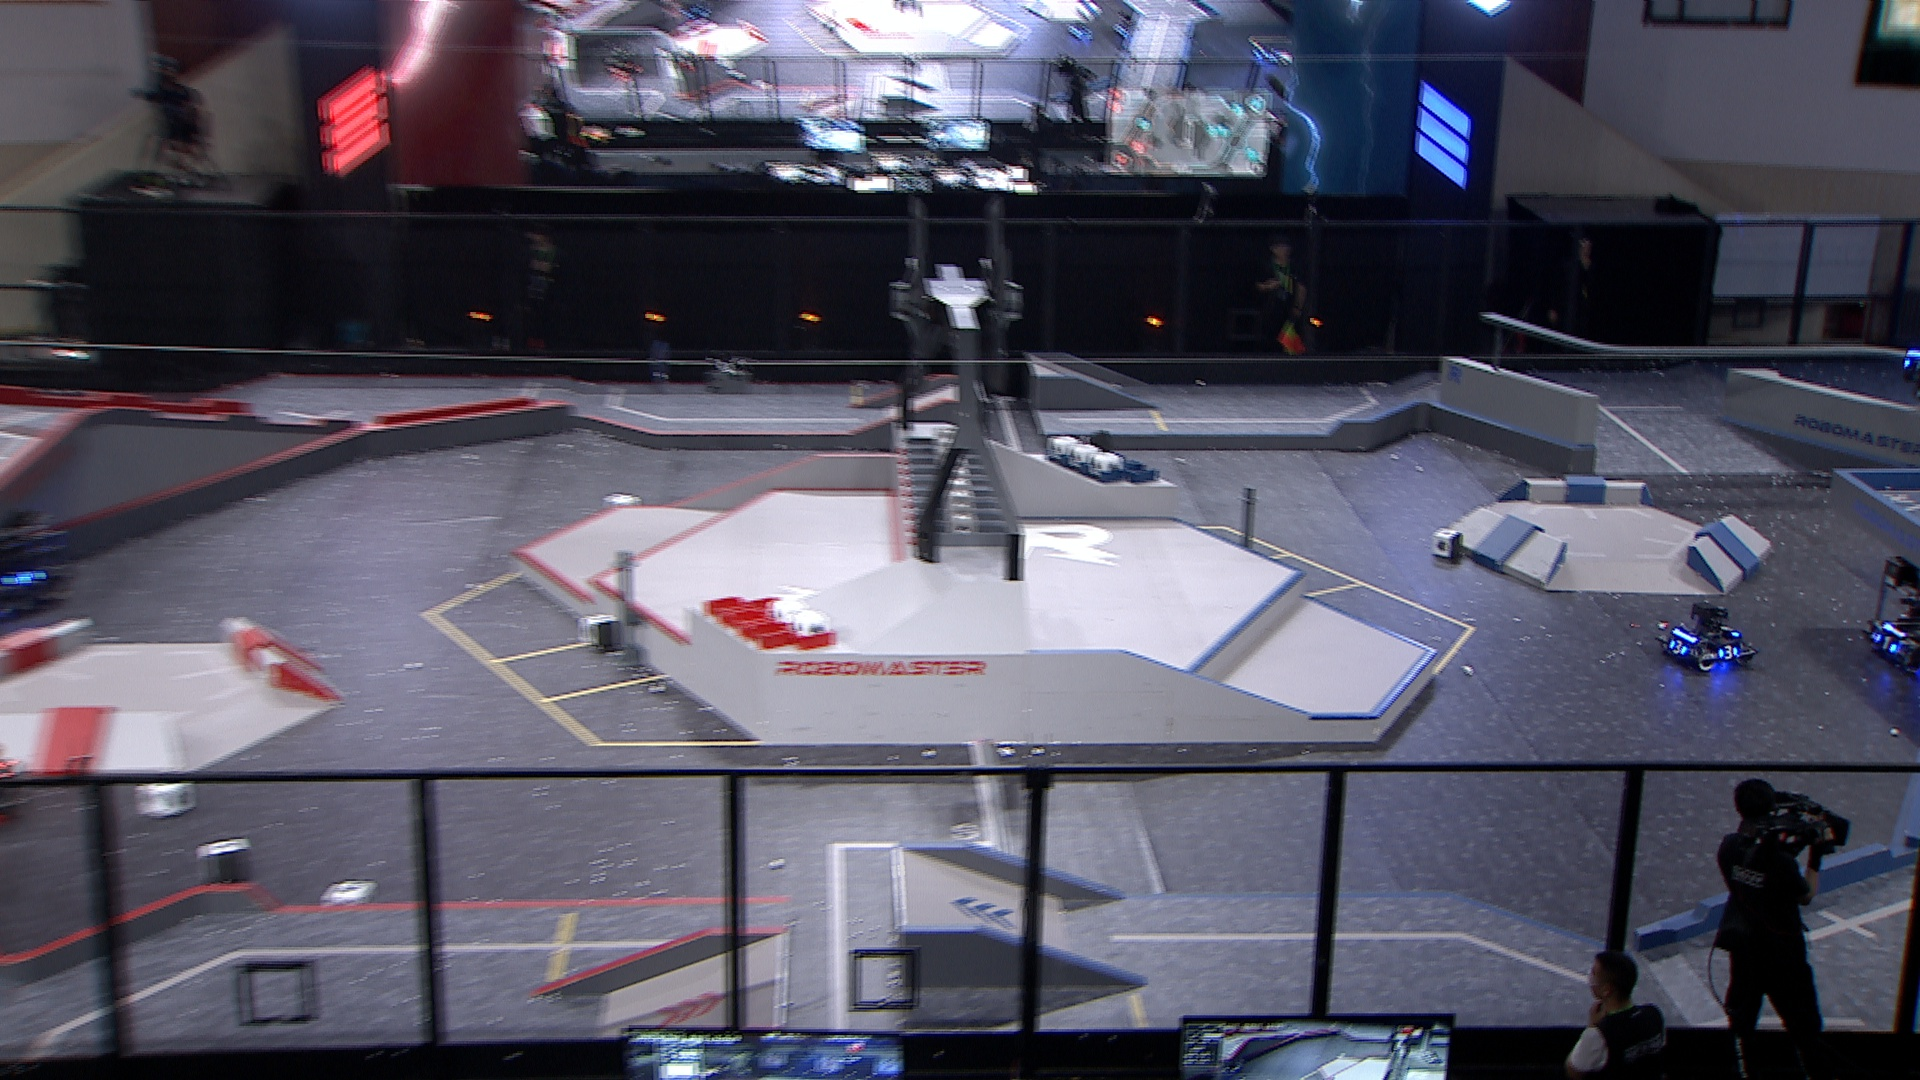armor: (3, 566, 47, 588), (1873, 628, 1898, 655), (1665, 638, 1691, 655), (1717, 618, 1738, 637), (1717, 642, 1738, 659), (1902, 356, 1920, 372)
car: (1656, 600, 1760, 673), (1865, 551, 1920, 676)
watcher: (1894, 335, 1920, 396)
